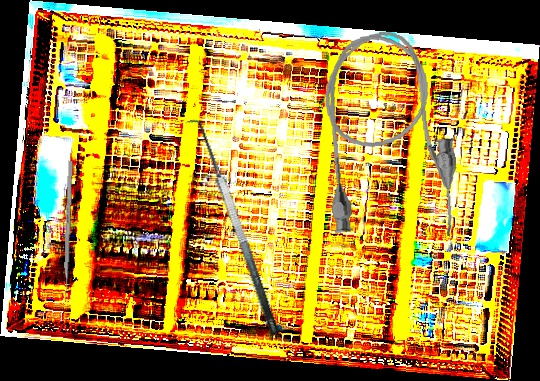Cannula: (314, 25, 464, 249)
Pusher: (62, 160, 74, 307)
Spatula Surgical: (180, 113, 282, 343)
